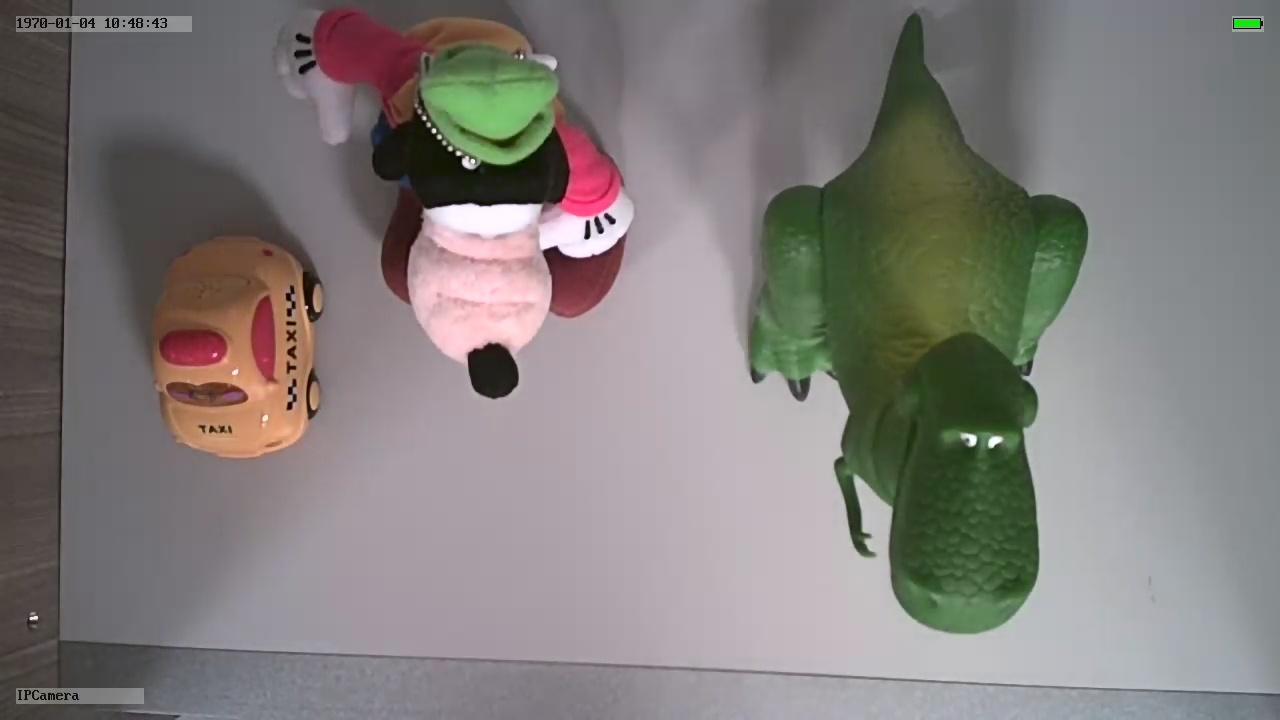car: (149, 233, 323, 458)
goofy: (276, 11, 645, 394)
rex: (746, 110, 1088, 634)
